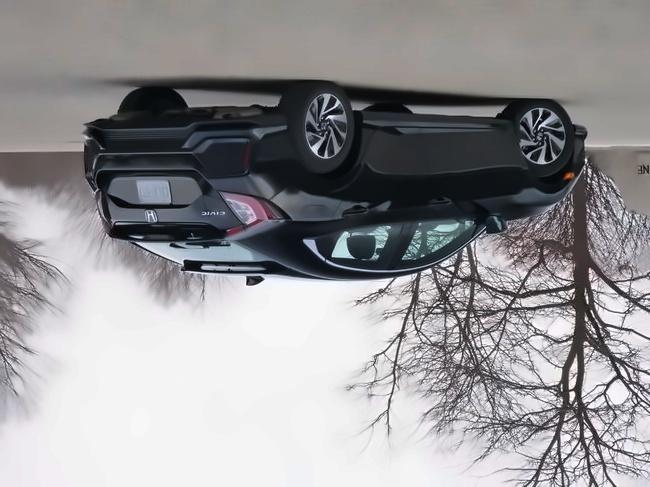Car boot: (101, 165, 252, 254)
Fender - -F-L-: (507, 118, 566, 222)
Fender - -R-L-: (273, 111, 368, 238)
Front bumper: (566, 121, 599, 186)
Passenger-s door - -F-L-: (399, 124, 505, 276)
Passenger-s door - -R-L-: (323, 123, 429, 274)
Rear bumper: (75, 103, 303, 196)
Rear light - -L-: (213, 186, 293, 246)
Side bumper - -L-: (346, 106, 518, 137)
Side mirror - -L-: (479, 210, 514, 240)
